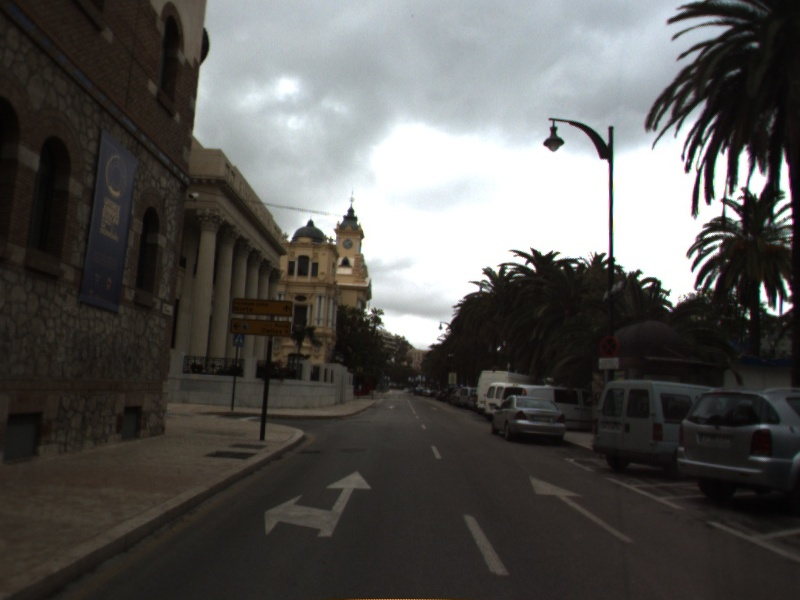STRAIGHT: (527, 473, 637, 545)
STRAIGHT_LEFT: (263, 469, 373, 538)
